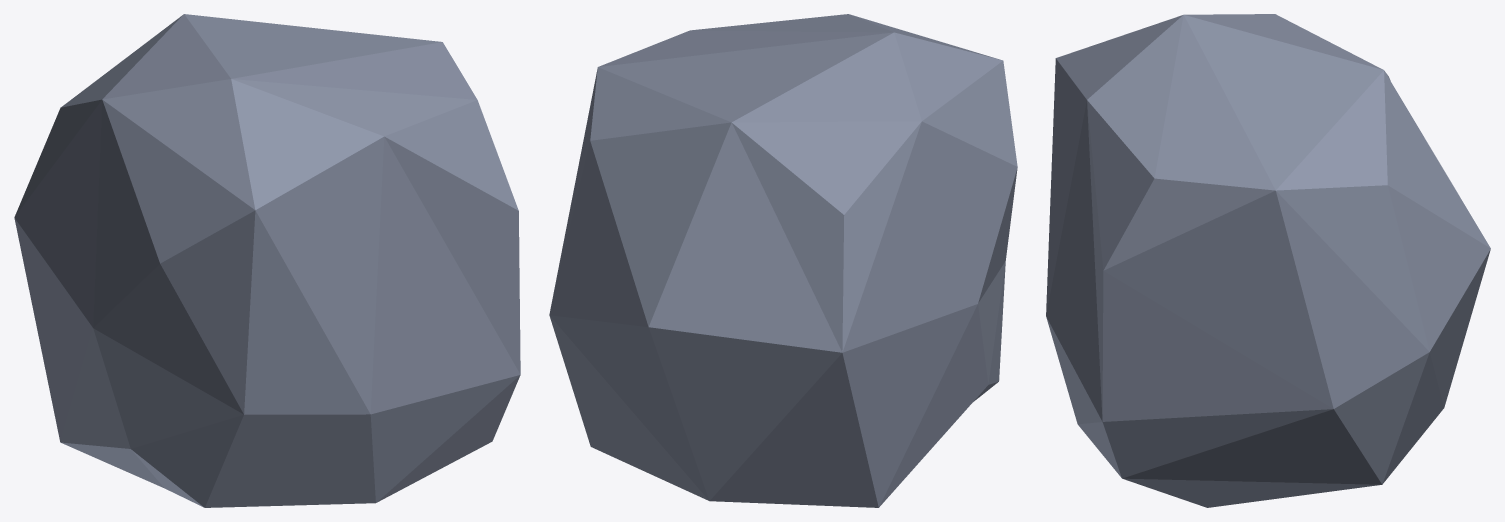
File: Rock2-1.fbx
The picture shows the model from 3 angles, left to right: view 1: azimuth 30°, elevation 25°; view 2: azimuth 150°, elevation 25°; view 3: azimuth 270°, elevation 25°; orthographic projection. The views are drawn at different scales.
Parts seen in each view (by area): view 1: Rock2-1; view 2: Rock2-1; view 3: Rock2-1.
Part boxes in pixels (x1=…): Rock2-1: x1=14, y1=14, x2=520, y2=507; Rock2-1: x1=549, y1=14, x2=1017, y2=507; Rock2-1: x1=1046, y1=14, x2=1490, y2=507.
Size of the model in its own units: 112 by 124 by 121.
